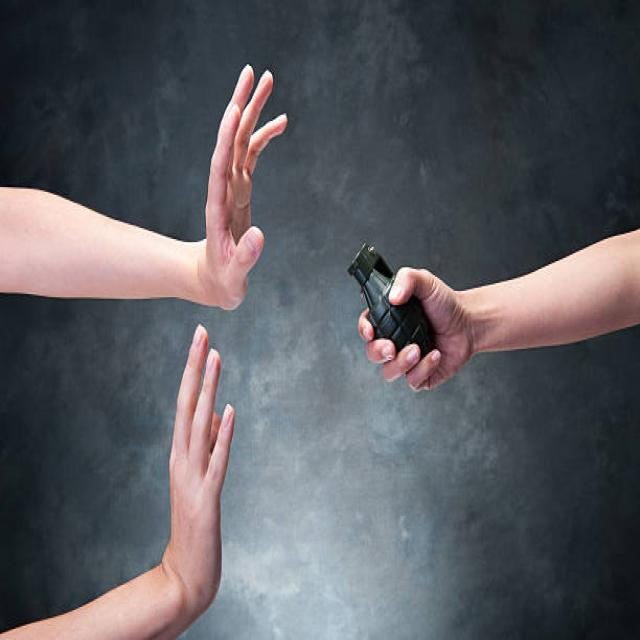grenade: (346, 242, 442, 360)
